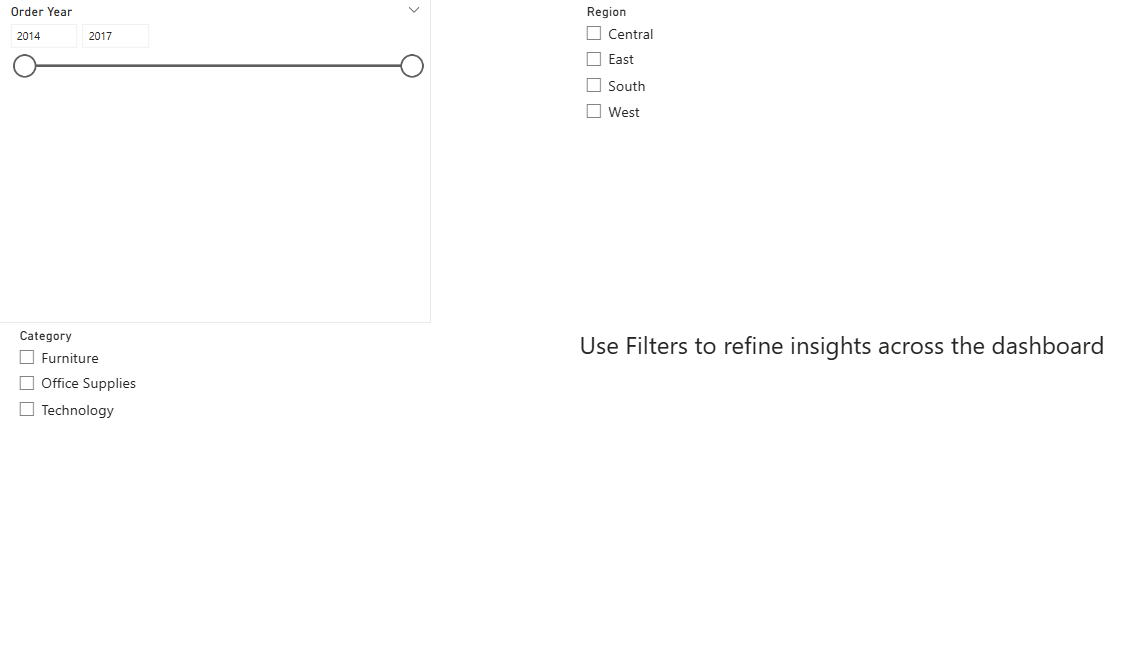

What the dashboard file says about the page in this screenshot:
{"tool":"powerbi","page":{"name":"Filters","canvas":[1280,720],"ordinal":1},"visuals":[{"type":"slicer","fields":{"Values":["Orders.Order Year"]},"box":[0,0,480,360],"z":0},{"type":"slicer","fields":{"Values":["Orders.Region"]},"box":[640,0,640,360],"z":1000},{"type":"slicer","fields":{"Values":["Orders.Category"]},"box":[10,360,535,360],"z":2000},{"type":"textbox","box":[640,360,640,360],"z":3000}]}

Visuals, with their boxes in screenshot pixels (x1, y1, x2, y2), scaled from the page's 1280x720 canvas onto the 1147x646 screenshot:
slicer - Orders.Order Year: 0/0/430/323
slicer - Orders.Region: 574/0/1146/323
slicer - Orders.Category: 9/323/488/645
textbox: 574/323/1146/645
